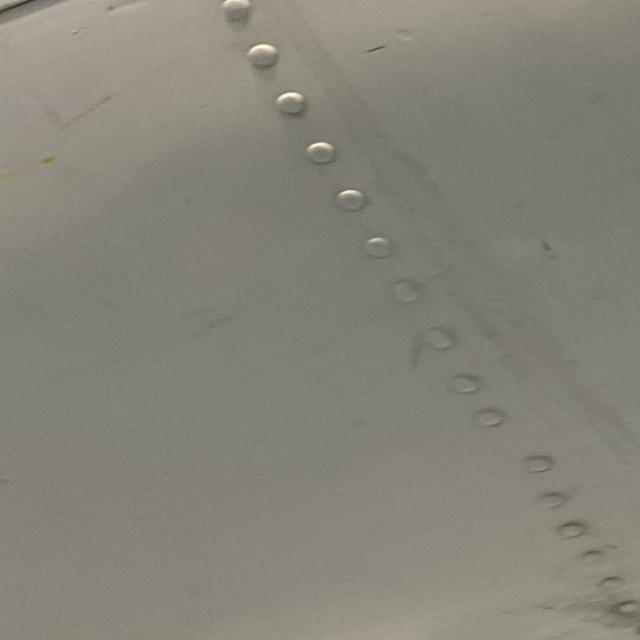Dent: (98, 0, 155, 21)
